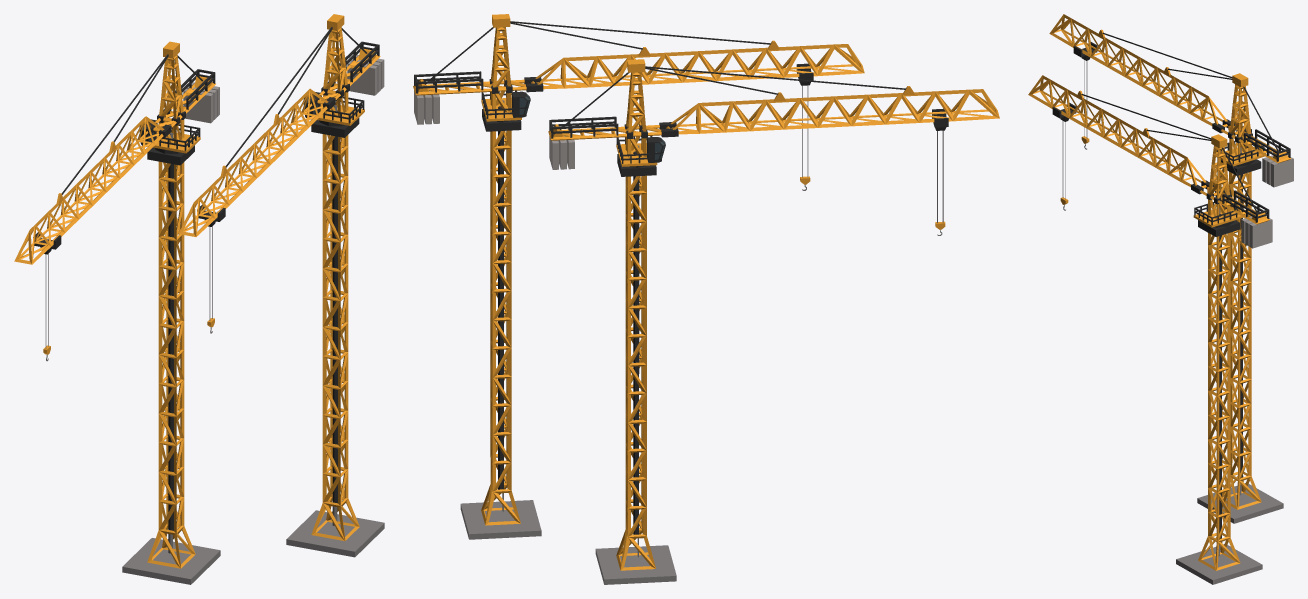
File: construction-vehicles-crane.glb
3 renders of one model, left to right at view 1: azimuth 30°, elevation 25°; view 2: azimuth 150°, elevation 25°; view 3: azimuth 270°, elevation 25°, orthographic. The views are drawn at different scales.
Parts seen in each view (by area): view 1: GN Instance (×2), crane-tower-base, crane-tower-top; view 2: GN Instance (×2), crane-tower-top, crane-tower-base; view 3: GN Instance (×2), crane-tower-base, crane-tower-top.
Boxes of the visible parts, x1,y1,x2,y2 form: GN Instance (×2): (14,41,220,584); crane-tower-base: (286,105,384,557); crane-tower-top: (178,14,384,236); GN Instance (×2): (548,59,999,584); crane-tower-top: (413,14,864,124); crane-tower-base: (460,100,541,539); GN Instance (×2): (1049,14,1293,523); crane-tower-base: (1176,208,1262,584); crane-tower-top: (1028,75,1272,248).
Bounding box in the file's own units: 31.63 × 32.29 × 18.14.
